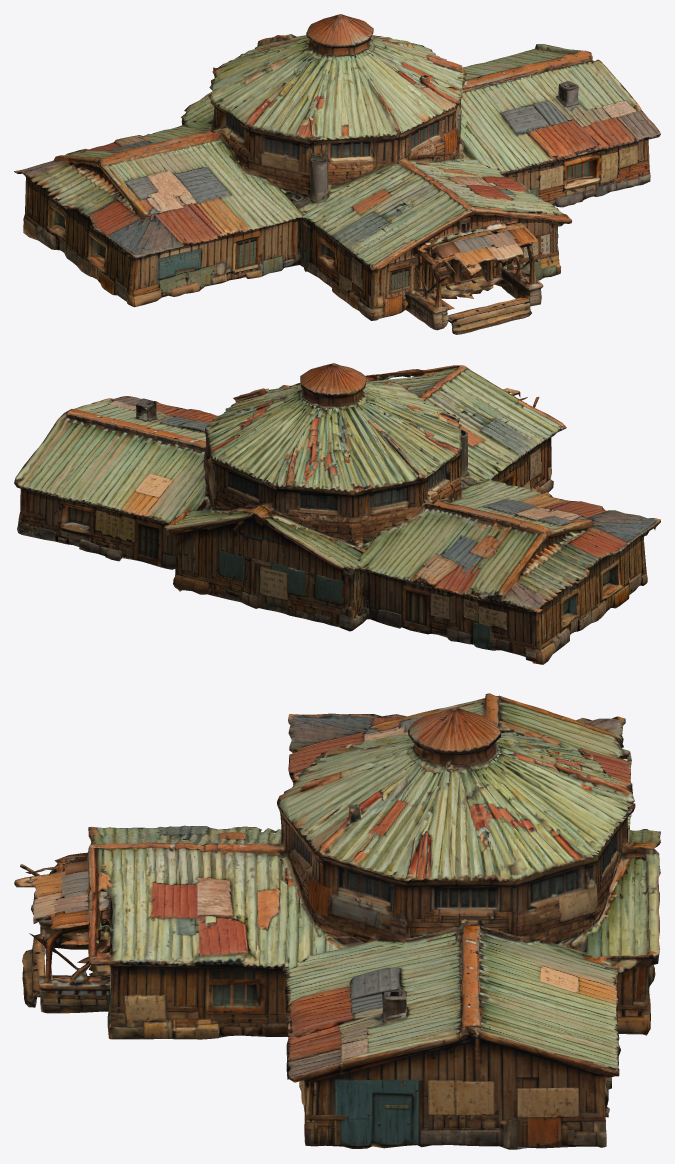
File: Settle_MainHall.fbx
3 renders of one model, top to bottom at view 1: azimuth 30°, elevation 25°; view 2: azimuth 150°, elevation 25°; view 3: azimuth 270°, elevation 25°, orthographic. The views are drawn at different scales.
Visible parts, largest first — view 1: texture_mapping; view 2: texture_mapping; view 3: texture_mapping.
Part boxes in pixels (left/top/right/bottom): texture_mapping: left=14, top=14, right=660, bottom=334; texture_mapping: left=14, top=363, right=660, bottom=664; texture_mapping: left=14, top=693, right=660, bottom=1149.
Bounding box in the file's own units: 0.9968 × 0.7619 × 0.3582.
Materials: 1 (1 with a texture image).
